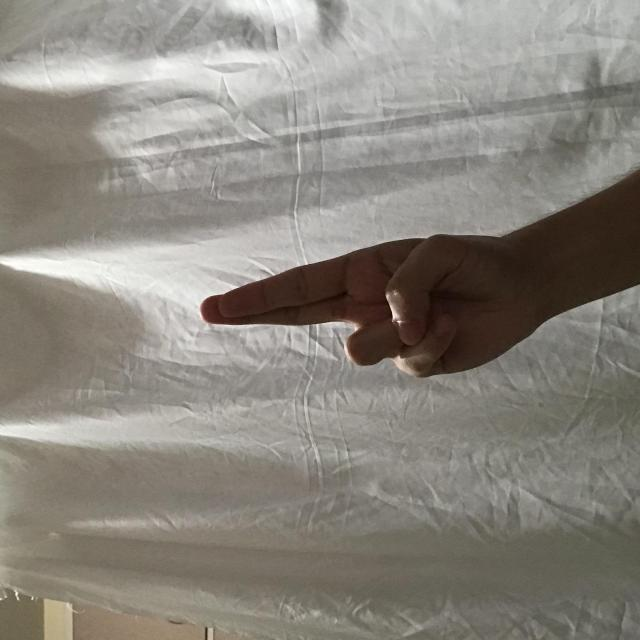R: (262, 200, 408, 538)
